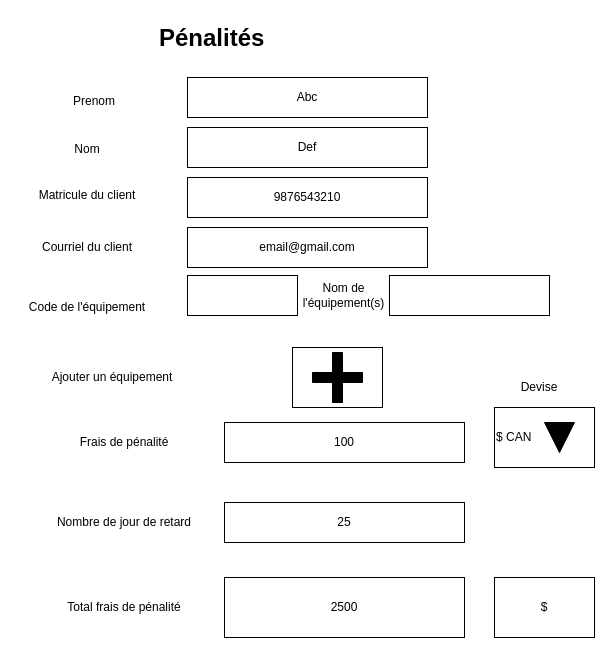
This 612x655 diagram has some shape labels left out. The centre of each missing label's shape, as x and y in pixels:
"Caméra Sony" belongs at point (469, 295).
"EQ-007" belongs at point (242, 295).
